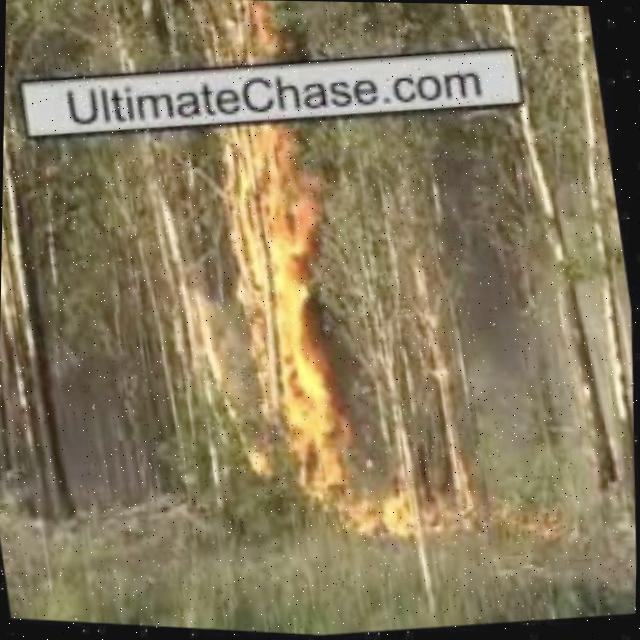fire: (212, 122, 368, 458), (290, 444, 434, 568), (197, 0, 290, 77)
